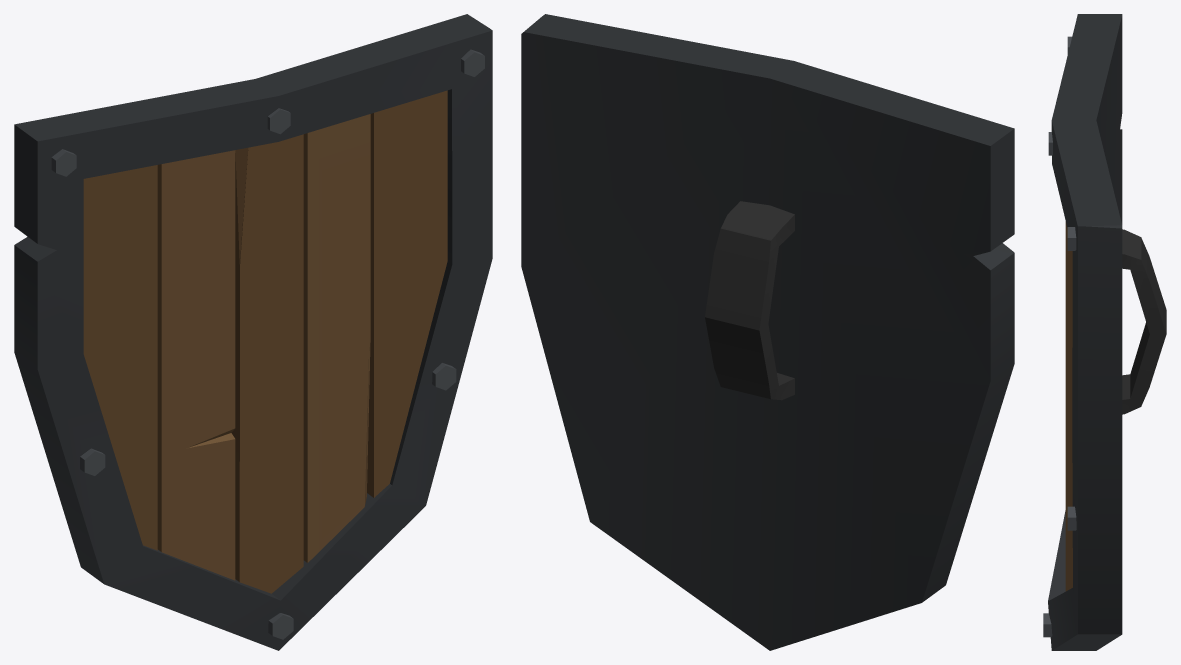
File: Shield_01.glb
3 views of the same model, side by side, from view 1: azimuth 30°, elevation 25°; view 2: azimuth 150°, elevation 25°; view 3: azimuth 270°, elevation 25° (orthographic). The views are drawn at different scales.
Parts seen in each view (by area): view 1: Shield_01; view 2: Shield_01; view 3: Shield_01.
Boxes of the visible parts, box(x1,y1,x2,y2) form: Shield_01: box(14, 14, 492, 650); Shield_01: box(521, 14, 1014, 650); Shield_01: box(1043, 14, 1166, 650).
Size of the model in its own units: 0.5198 by 0.6059 by 0.1273.
1 material, 1 textured.
